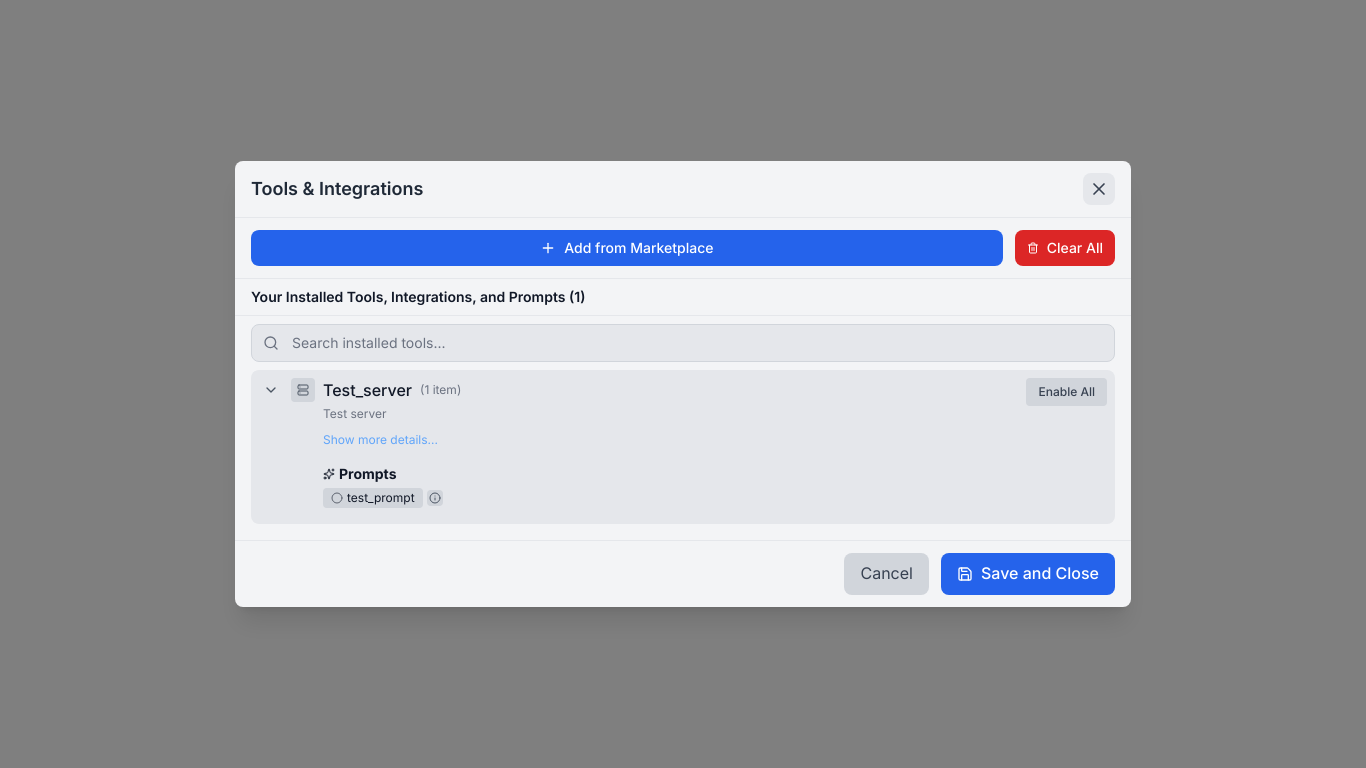
ToolsPanel - Custom Information Display › should expand and show prompt description when info icon is clicked
expect the text "This is a detailed test prompt description that explains what the prompt does." is not shown: met
// Click the info button
Click the button titled "Show prompt description" at {"x": 435, "y": 498}, box [427,490,443,506]
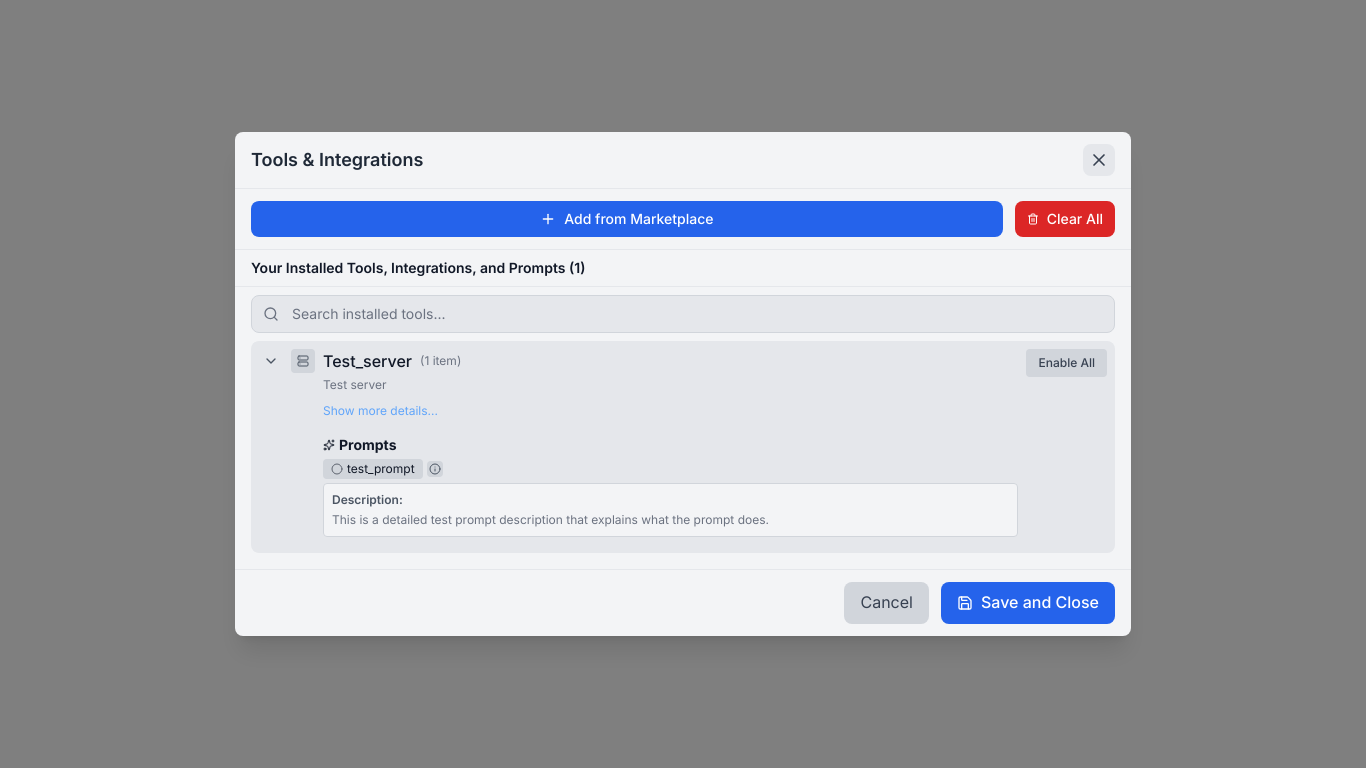
expect the text "This is a detailed test prompt description that explains what the prompt does." is shown: met, box [332,512,769,527]
expect the text "Description:" is shown: met, box [332,492,403,507]
